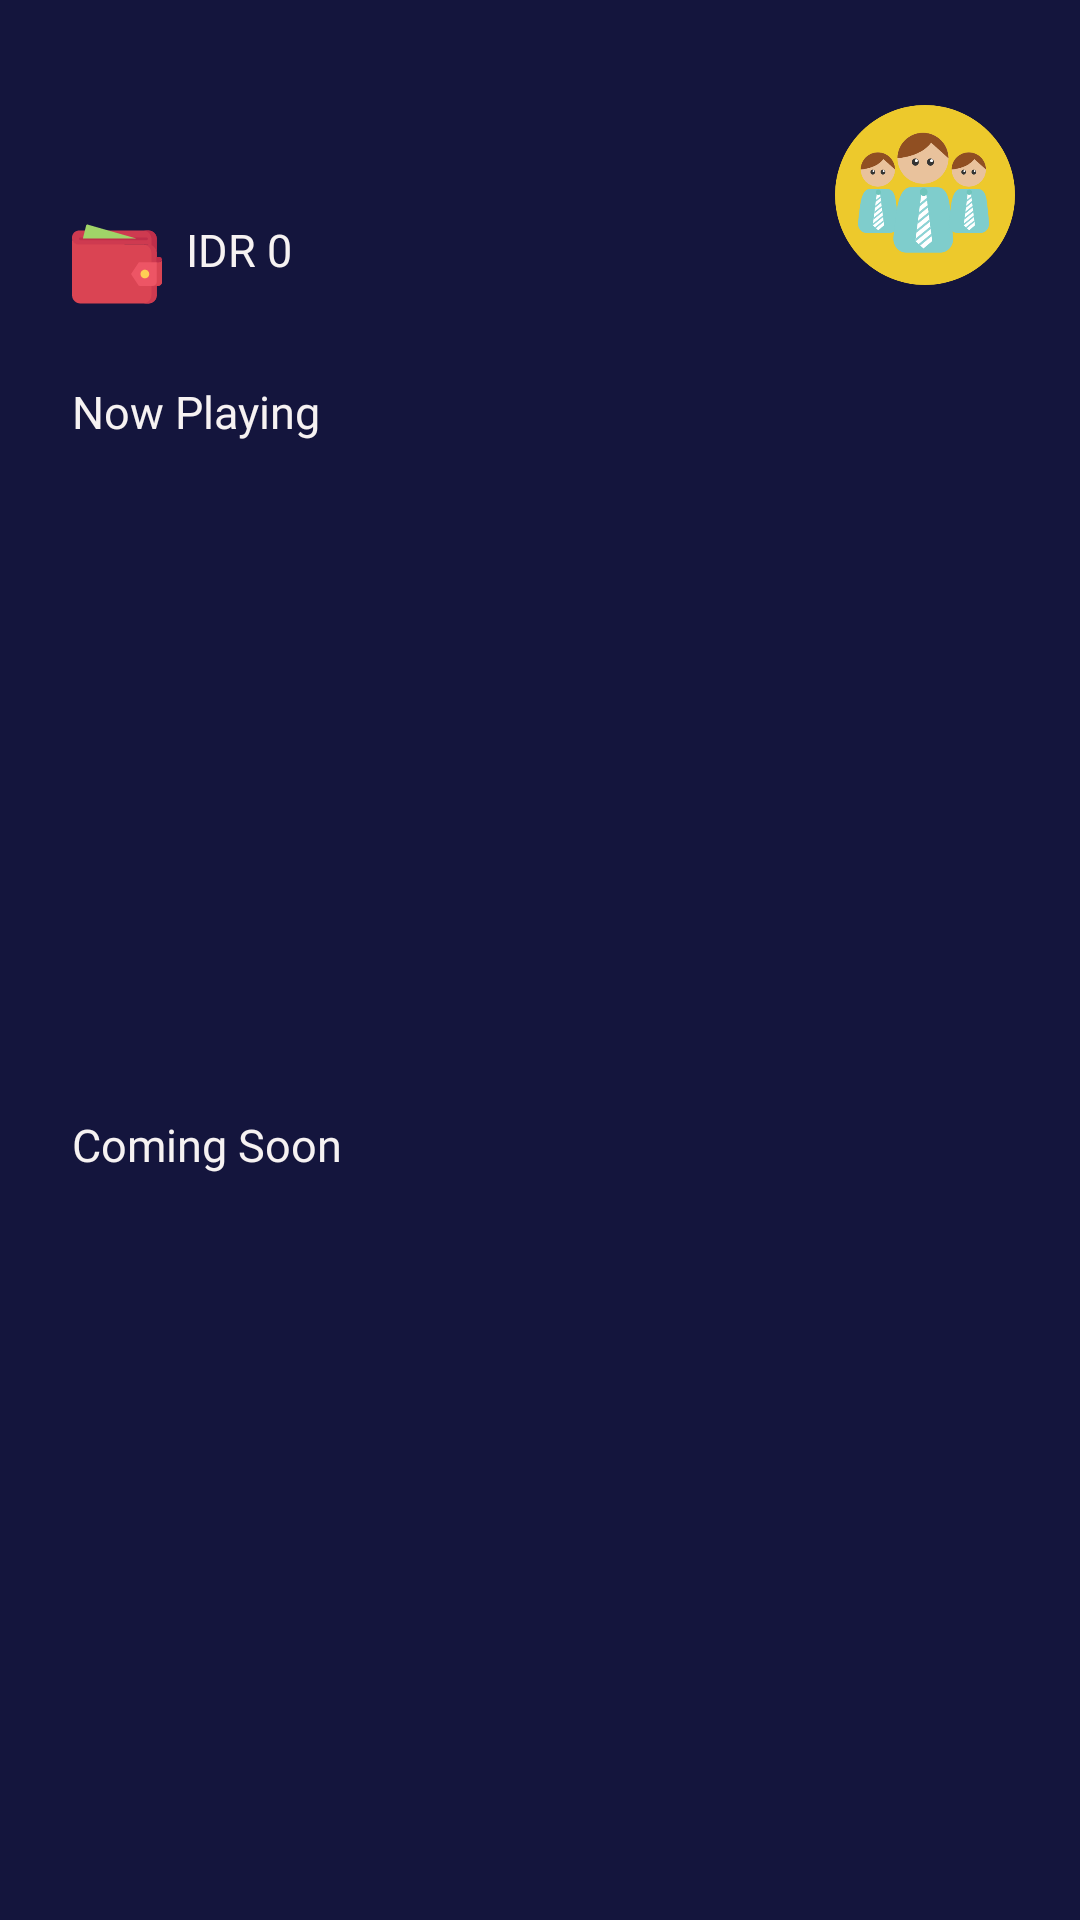

Point at icon controls on the screen. Image size 1080px x 1920px, points as (x=x, y=y).
wallet: (x=117, y=264)
